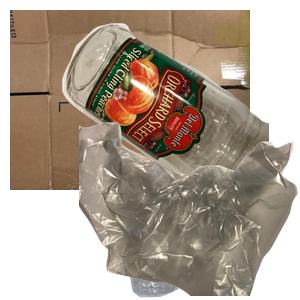cardboard: (10, 10, 250, 190)
glass: (60, 21, 300, 201)
plastic: (115, 176, 288, 300)
trash: (79, 120, 300, 300)
